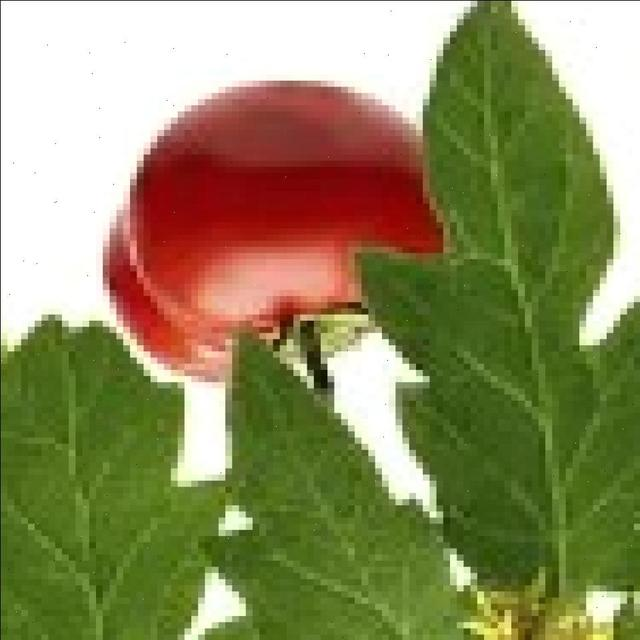Healthy Fruit: (72, 51, 308, 260)
